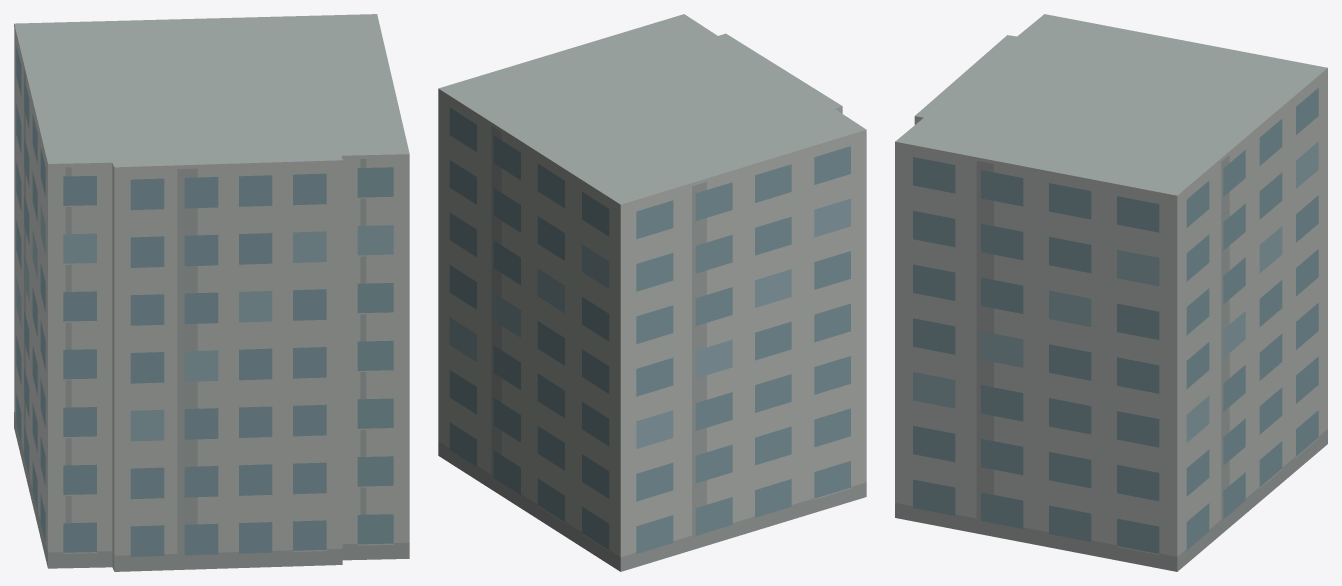
Rendered from survey-upis-32492386.glb.
The picture shows the model from 3 angles, left to right: view 1: azimuth 30°, elevation 25°; view 2: azimuth 150°, elevation 25°; view 3: azimuth 270°, elevation 25°; orthographic projection. The views are drawn at different scales.
Visible parts, largest first — view 1: survey-upis-32492386.tmp; view 2: survey-upis-32492386.tmp; view 3: survey-upis-32492386.tmp.
Part boxes in pixels (left/top/right/bottom): survey-upis-32492386.tmp: left=14, top=14, right=409, bottom=571; survey-upis-32492386.tmp: left=438, top=14, right=866, bottom=571; survey-upis-32492386.tmp: left=895, top=14, right=1327, bottom=571.
Bounding box in the file's own units: 27.25 × 26.3 × 27.43.
